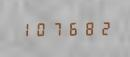eight: (82, 19, 97, 36)
one: (17, 20, 32, 37)
seven: (50, 20, 65, 36)
six: (66, 19, 81, 36)
two: (98, 19, 113, 36)
zero: (33, 20, 48, 37)
